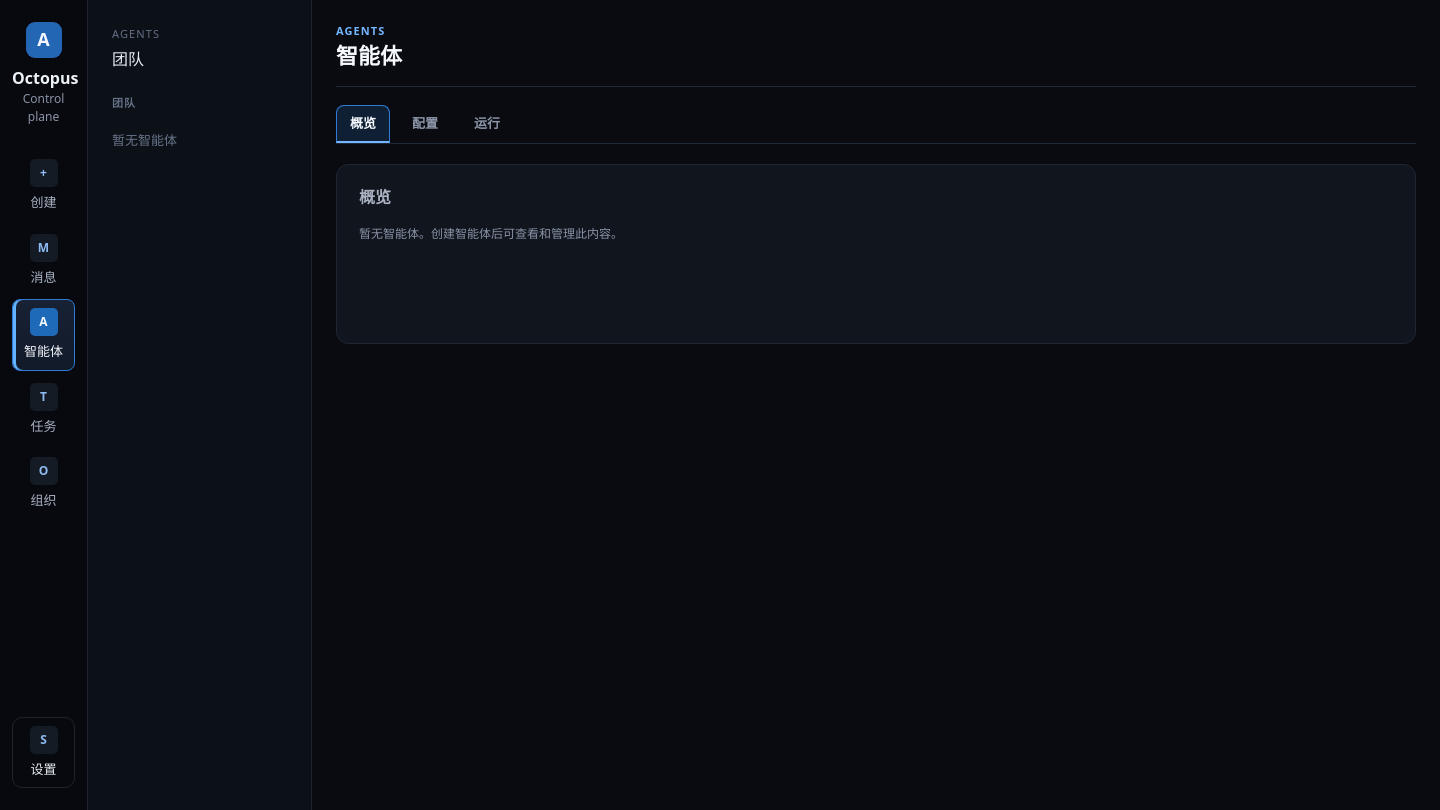
shows instance heartbeat controls inside settings
Click the button "S 设置".
click(44, 752)  # box [12,716,75,788]
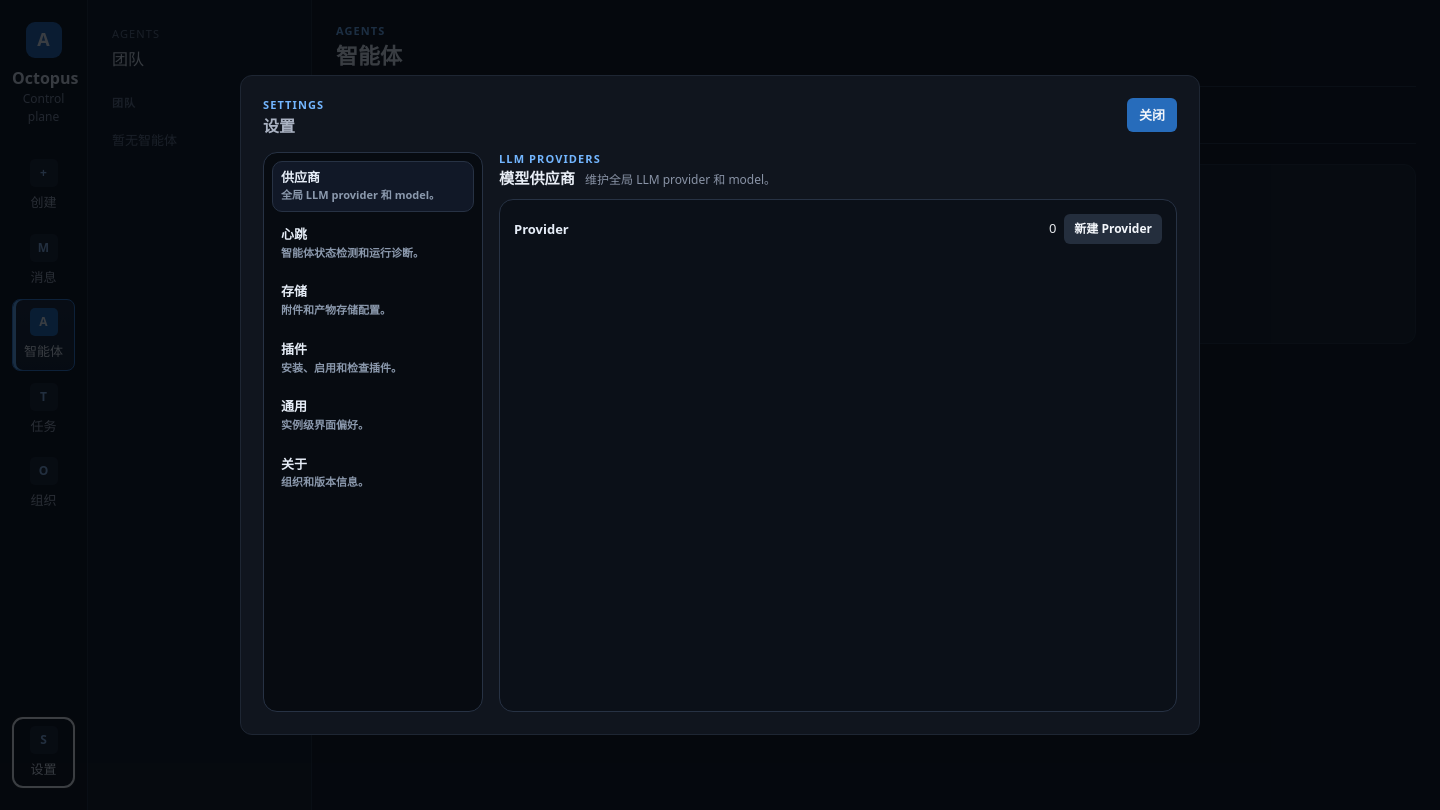
Click the button "心跳 智能体状态检测和运行诊断。".
click(373, 244)  # box [272,218,474,269]
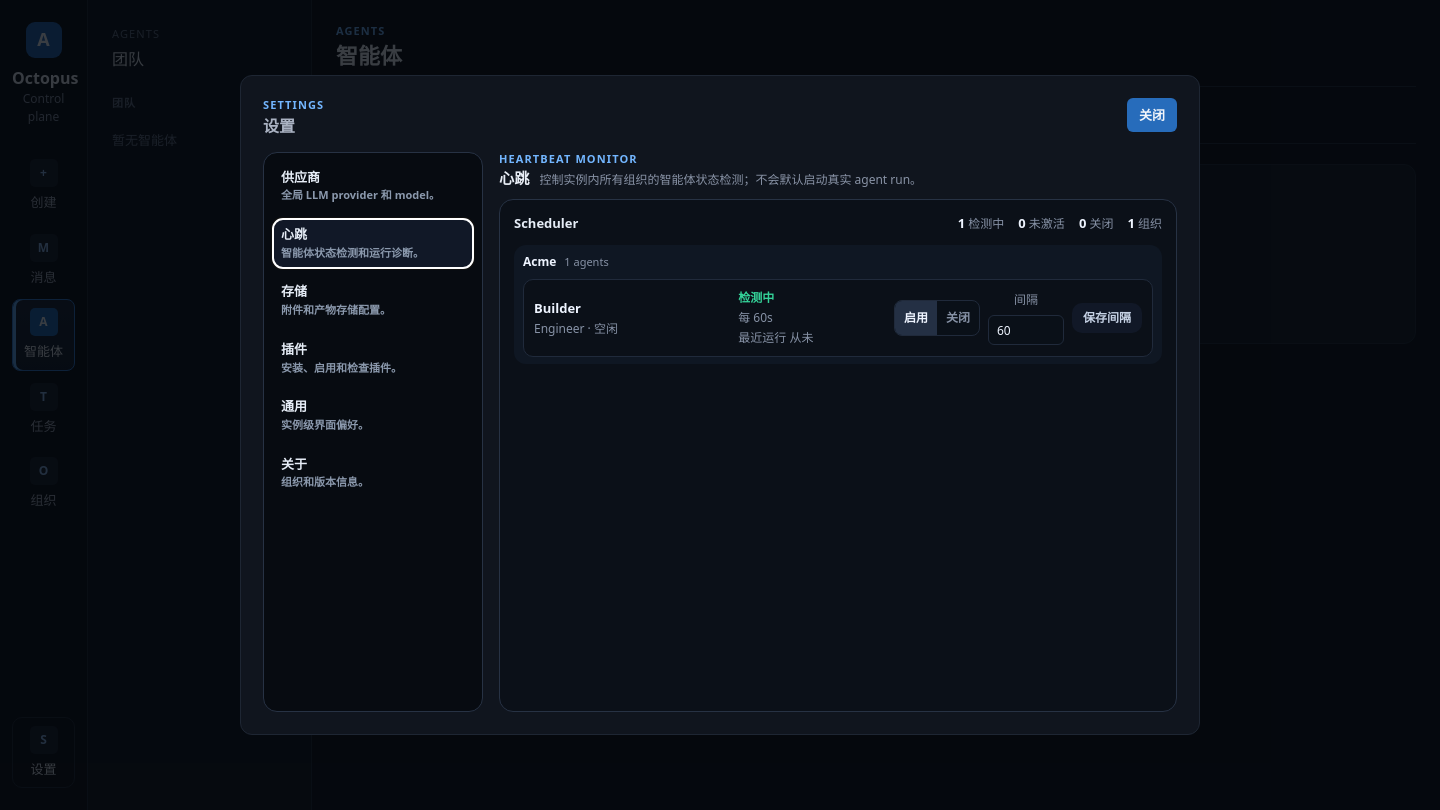
Expected: the heading "心跳" is shown, [499,169,529,188]
Expected: the heading "Scheduler" is shown, [514,215,578,232]
Expected: the element with test id "instance-heartbeat-row" is shown, [523,279,1153,357]
